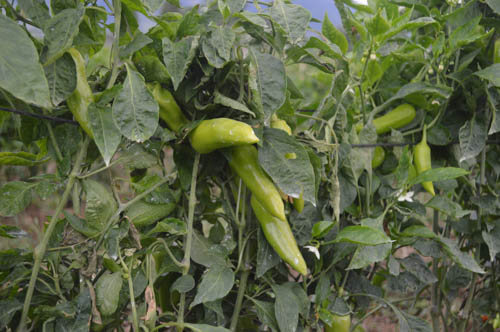ChiliPepper: (251, 192, 312, 275), (239, 151, 289, 219), (58, 55, 97, 135), (192, 117, 264, 154), (366, 101, 417, 138), (146, 87, 188, 128), (416, 143, 440, 192)
